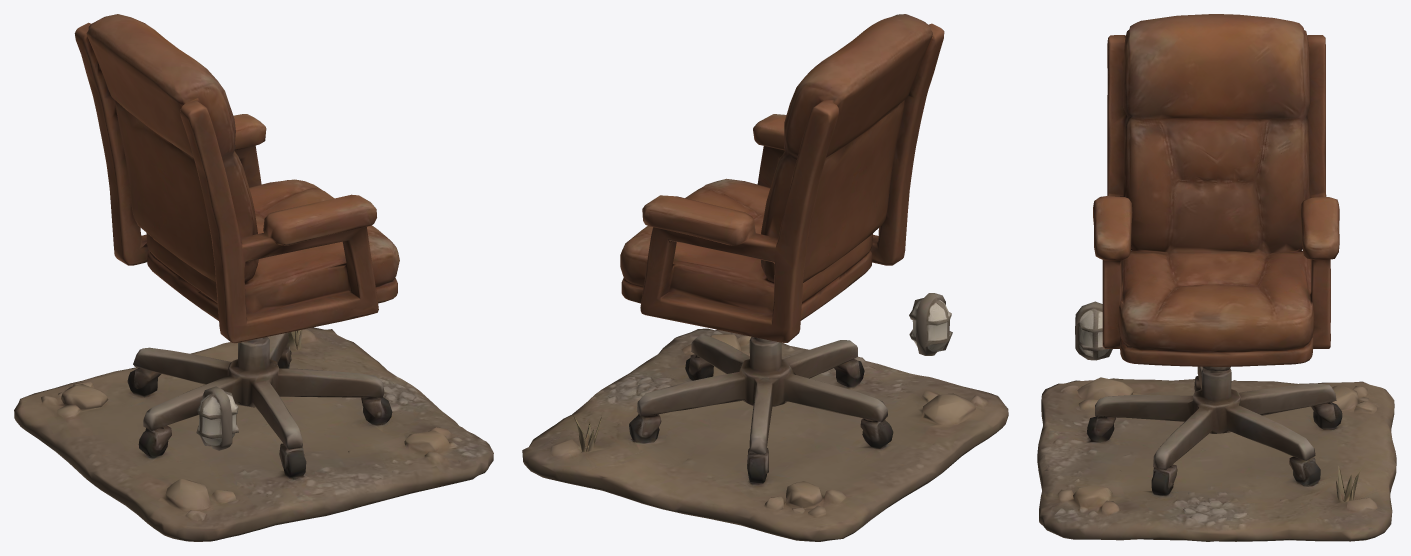
Rendered from office_chair.glb.
3 views of the same model, side by side, from view 1: azimuth 30°, elevation 25°; view 2: azimuth 150°, elevation 25°; view 3: azimuth 270°, elevation 25° (orthographic). The views are drawn at different scales.
Visible parts, largest first — view 1: tripo_node_7c16c837-1da9-4e39-aa75-00a18ff3a9f0; view 2: tripo_node_7c16c837-1da9-4e39-aa75-00a18ff3a9f0; view 3: tripo_node_7c16c837-1da9-4e39-aa75-00a18ff3a9f0.
Boxes of the visible parts, left/top/right/bottom form: tripo_node_7c16c837-1da9-4e39-aa75-00a18ff3a9f0: left=14, top=14, right=493, bottom=541; tripo_node_7c16c837-1da9-4e39-aa75-00a18ff3a9f0: left=522, top=14, right=1008, bottom=541; tripo_node_7c16c837-1da9-4e39-aa75-00a18ff3a9f0: left=1037, top=14, right=1396, bottom=541.
Bounding box in the file's own units: 0.8118 × 1 × 0.8091.
Materials: 1 (1 with a texture image).
